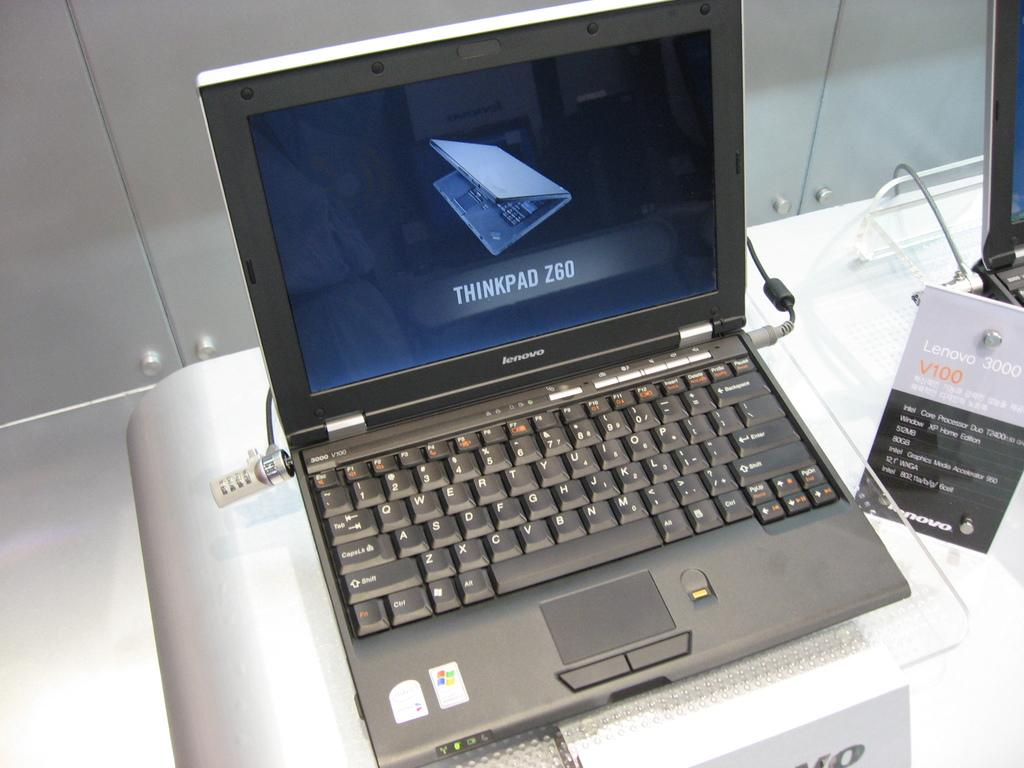Laptop: (199, 0, 909, 767), (972, 0, 1023, 311)
